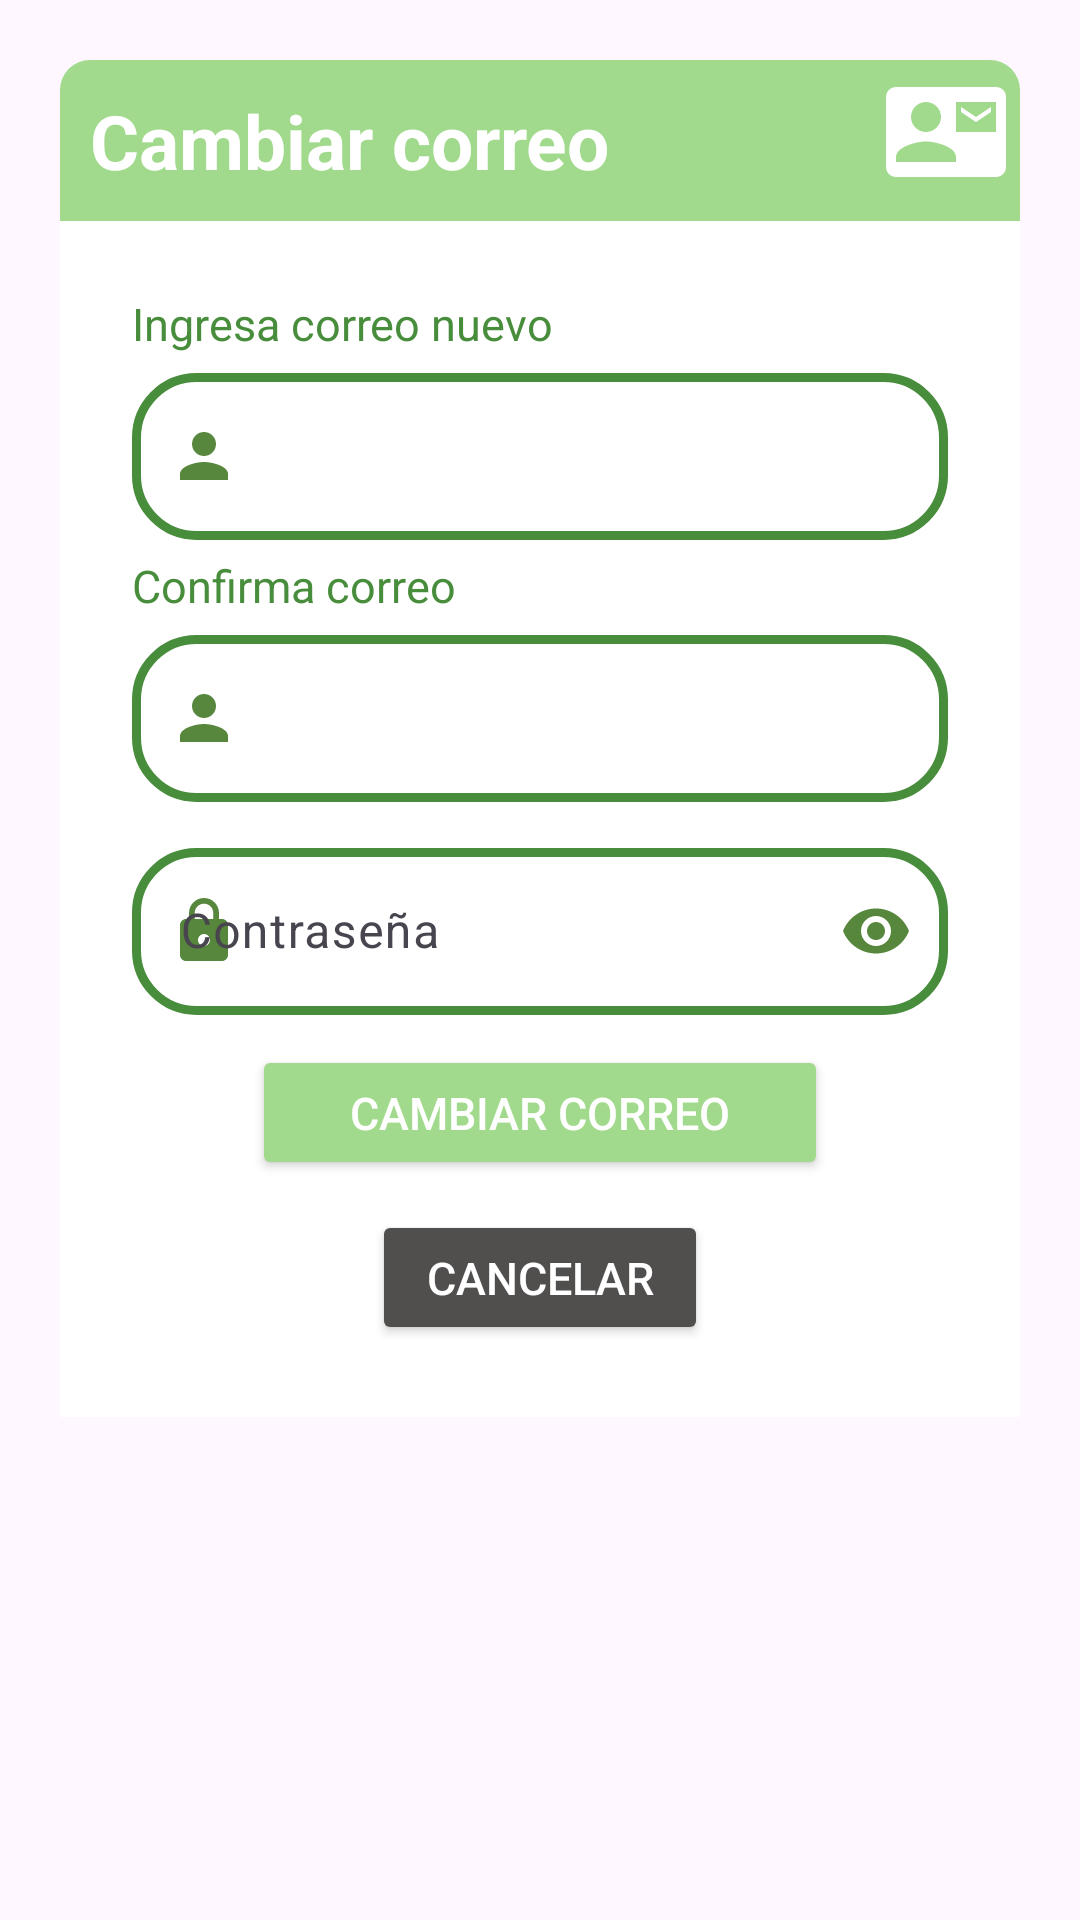

Screen size 1080 x 1920. Icon name, then its box in pixels as BBox(x1, y1, x2, y2):
contact mail: BBox(886, 87, 1006, 177)
